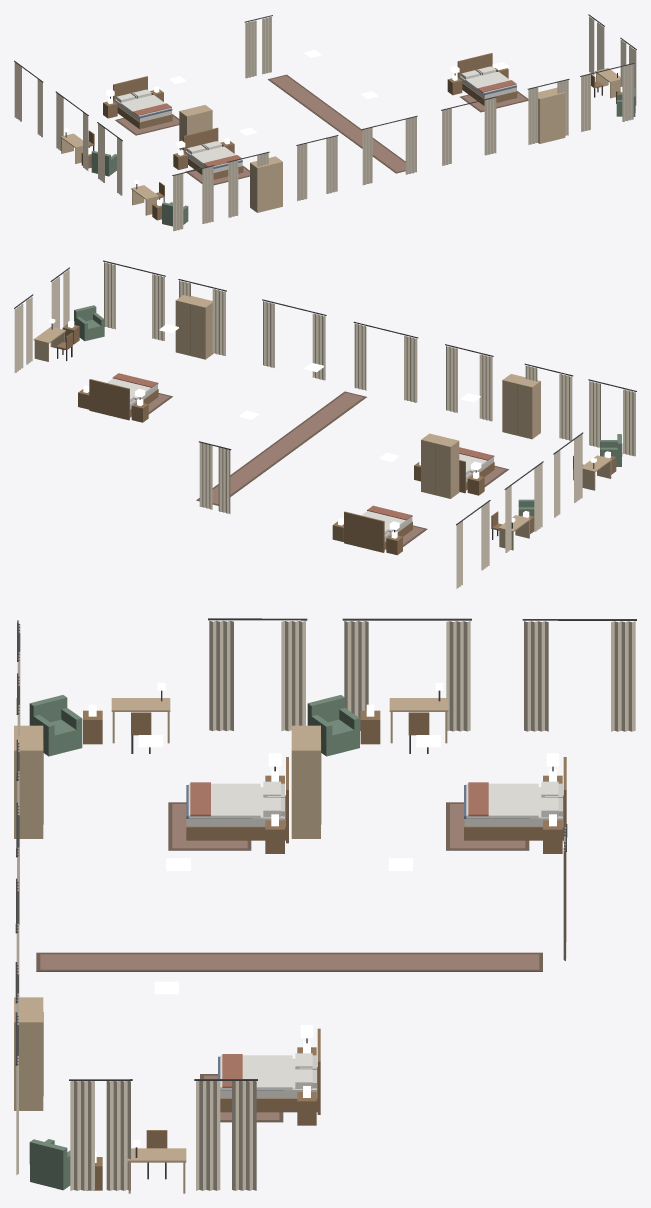
The model's file is fine-s1.glb.
3 renders of one model, top to bottom at view 1: azimuth 30°, elevation 25°; view 2: azimuth 150°, elevation 25°; view 3: azimuth 270°, elevation 25°, orthographic. The views are drawn at different scales.
Visible parts, largest first — view 1: soft-s1, dresser.002, dresser.000, bed-frame.001, bed-frame.000, bed-frame.002, dresser.001, writing-desk.002, writing-desk.001, writing-desk.000, lounge-chair.001, lounge-chair.002; view 2: soft-s1, dresser.001, dresser.002, dresser.000, bed-frame.000, bed-frame.001, lounge-chair.000, writing-desk.000, writing-desk.002, writing-desk.001, bed-frame.002; view 3: soft-s1, dresser.001, dresser.002, dresser.000, bed-frame.001, bed-frame.002, lounge-chair.002, lounge-chair.001, bed-frame.000, lounge-chair.000, writing-desk.000, writing-desk.001 (+1 smaller).
Boxes of the visible parts, <box> form: soft-s1: <box>14,14,636,231</box>; dresser.002: <box>250,156,282,212</box>; dresser.000: <box>538,87,565,143</box>; bed-frame.001: <box>113,76,172,129</box>; bed-frame.000: <box>457,53,517,105</box>; bed-frame.002: <box>183,127,243,179</box>; dresser.001: <box>179,105,212,149</box>; writing-desk.002: <box>131,179,158,215</box>; writing-desk.001: <box>60,128,88,163</box>; writing-desk.000: <box>595,68,620,98</box>; lounge-chair.001: <box>91,151,116,176</box>; lounge-chair.002: <box>162,202,188,226</box>; soft-s1: <box>14,260,636,588</box>; dresser.001: <box>421,433,459,498</box>; dresser.002: <box>502,374,540,439</box>; dresser.000: <box>175,295,213,359</box>; bed-frame.000: <box>89,379,158,420</box>; bed-frame.001: <box>344,511,412,552</box>; lounge-chair.000: <box>74,305,104,341</box>; writing-desk.000: <box>33,318,65,361</box>; writing-desk.002: <box>582,455,611,490</box>; writing-desk.001: <box>498,515,530,550</box>; bed-frame.002: <box>459,456,494,493</box>; soft-s1: <box>15,618,636,1190</box>; dresser.001: <box>291,725,321,838</box>; dresser.002: <box>14,725,43,838</box>; dresser.000: <box>14,997,43,1110</box>; bed-frame.001: <box>464,757,566,842</box>; bed-frame.002: <box>186,757,288,843</box>; lounge-chair.002: <box>29,695,82,756</box>; lounge-chair.001: <box>307,695,359,756</box>; bed-frame.000: <box>218,1028,320,1114</box>; lounge-chair.000: <box>29,1139,70,1190</box>; writing-desk.000: <box>127,1139,186,1193</box>; writing-desk.001: <box>389,683,448,743</box>.
Size of the model in its own units: 22.39 by 2.56 by 12.74.
